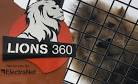lion: (69, 4, 136, 84)
